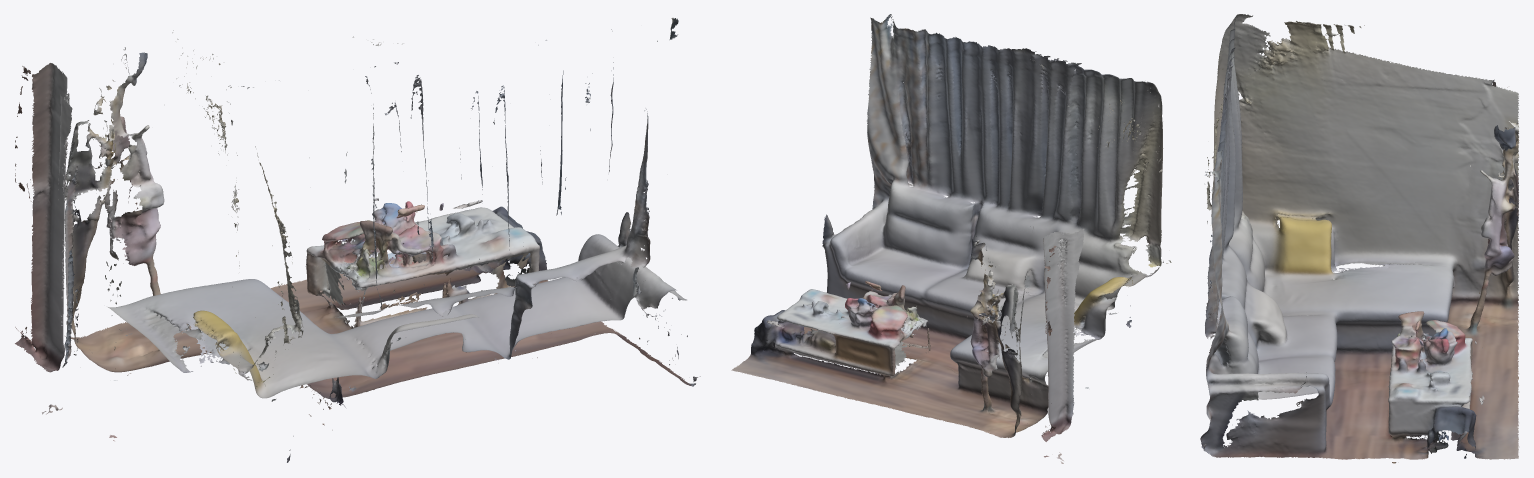
Rendered from apartment-detail-5-05fccf000964.glb.
3 views of the same model, side by side, from view 1: azimuth 30°, elevation 25°; view 2: azimuth 150°, elevation 25°; view 3: azimuth 270°, elevation 25° (orthographic). The views are drawn at different scales.
Size of the model in its own units: 3.09 by 2.87 by 2.47.
